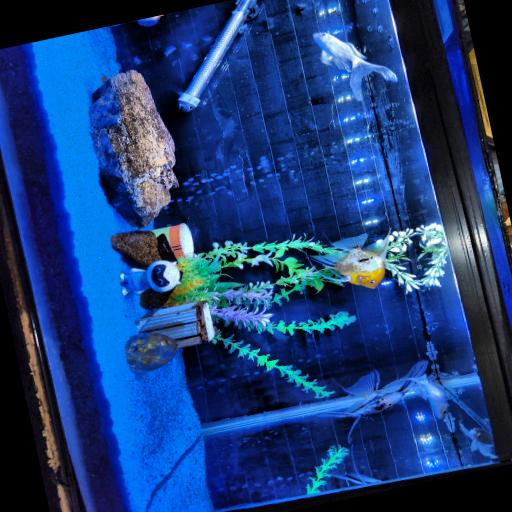Fish: (317, 361, 426, 441), (312, 32, 396, 100), (310, 231, 388, 287), (404, 374, 448, 418), (329, 448, 380, 484), (459, 423, 496, 458), (329, 472, 380, 484), (137, 15, 161, 25)
